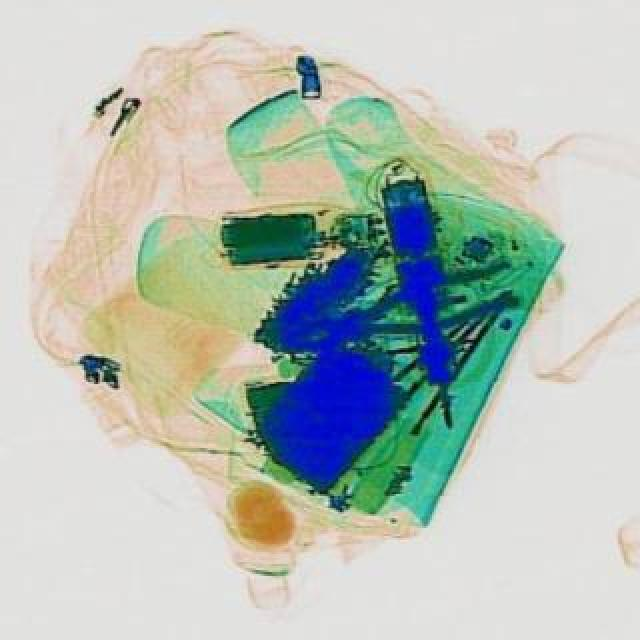wrench: (280, 254, 520, 358)
